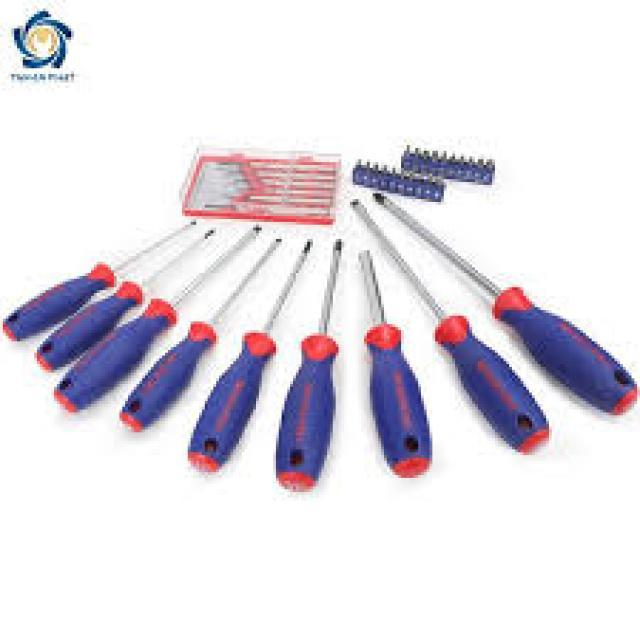screwdriver: (370, 185, 640, 418), (348, 192, 556, 457), (35, 223, 266, 422), (116, 227, 284, 443), (176, 235, 316, 482), (26, 225, 220, 378), (0, 215, 202, 343), (270, 235, 353, 502), (360, 244, 440, 486)
